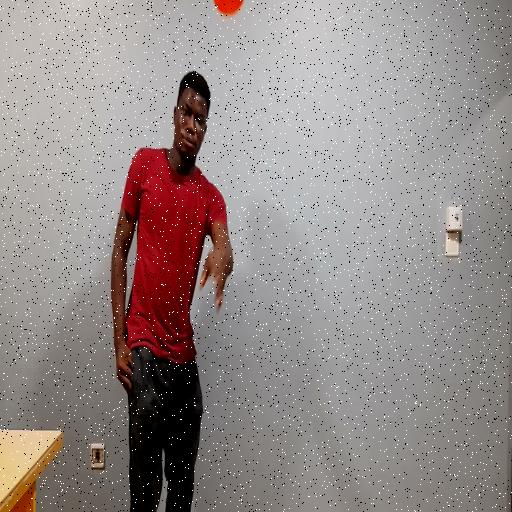plastic-ball: (208, 0, 252, 23)
